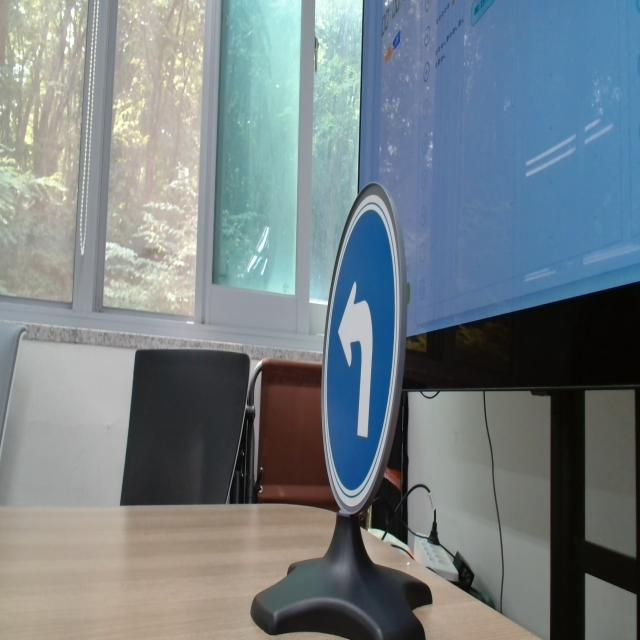left_direction: (314, 172, 412, 524)
